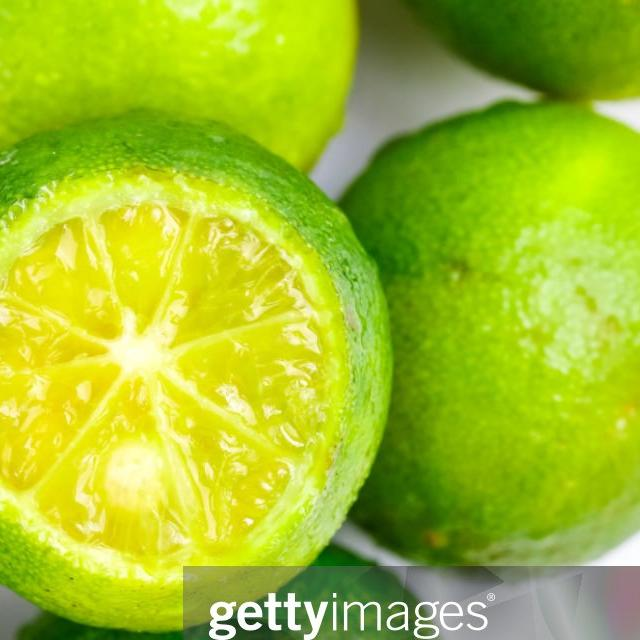lime: (340, 104, 640, 583)
